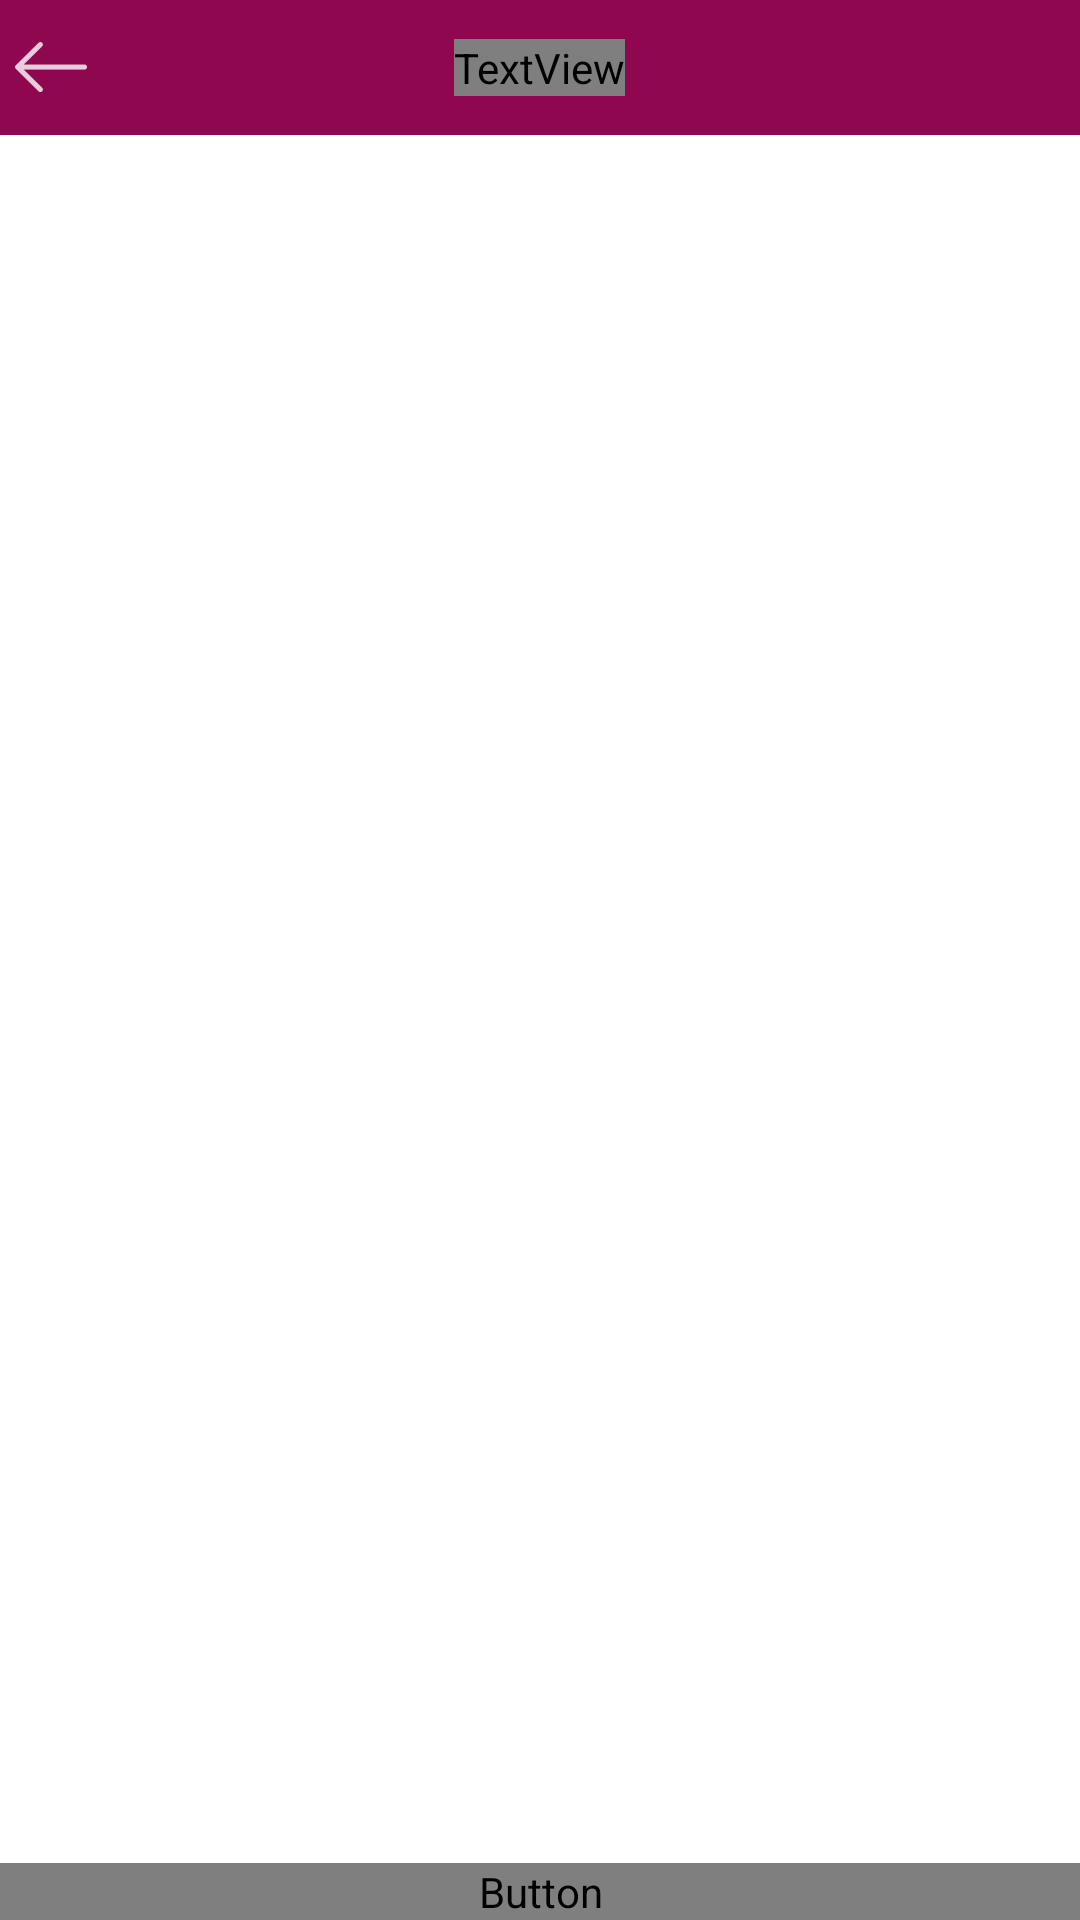

Named icons in this screenshot (1080x1920) and their bounding boxes, [left=x1, top=y1, right=x2, bottom=y2]:
back: [left=15, top=42, right=87, bottom=92]
